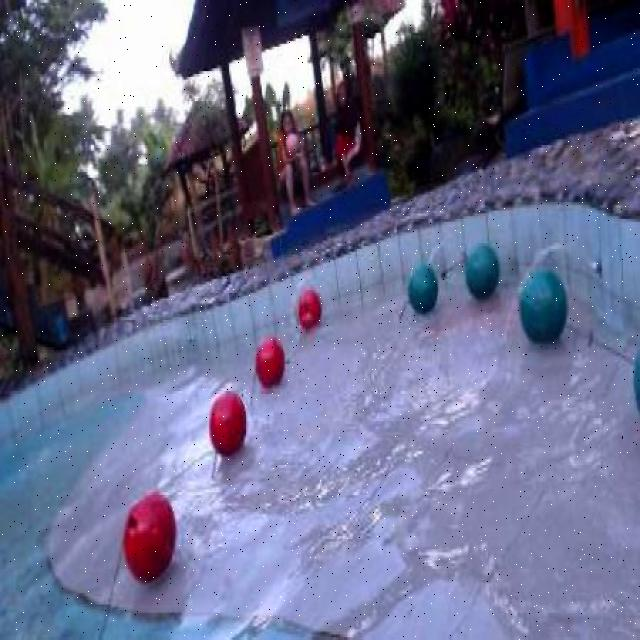buoy: (121, 491, 178, 582), (519, 270, 568, 344), (209, 388, 246, 454), (464, 242, 499, 300), (254, 333, 284, 389), (407, 262, 439, 312), (297, 289, 322, 330)
